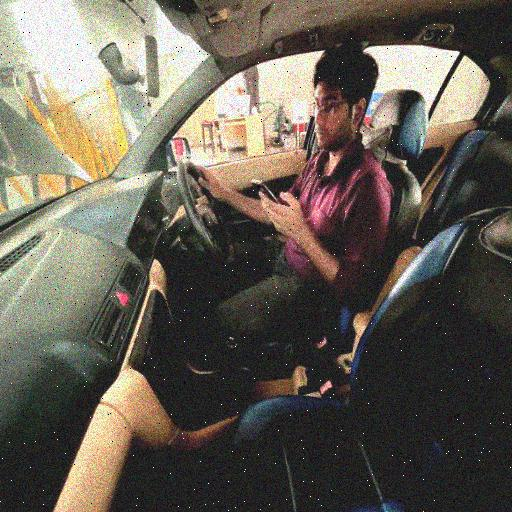Texting_on_phone: (189, 42, 392, 319)
